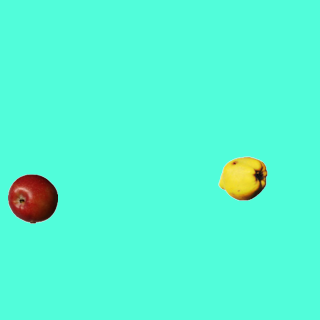Apple Braeburn: (7, 173, 57, 223)
Quince: (217, 153, 267, 203)
